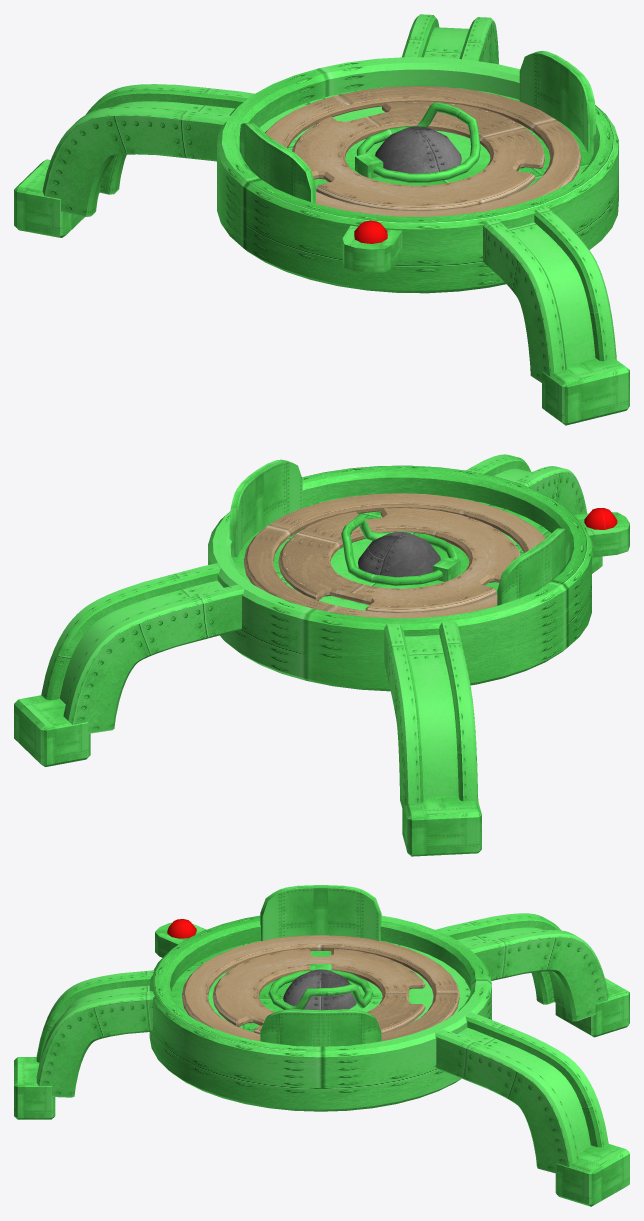
Rendered from static.glb.
3 views of the same model, one above another, from view 1: azimuth 30°, elevation 25°; view 2: azimuth 150°, elevation 25°; view 3: azimuth 270°, elevation 25° (orthographic). The views are drawn at different scales.
Visible parts, largest first — view 1: Tube, Boole_2, Sweep_2, Sweep_3, Sweep_6, Cube_5, Cube_3, Sweep_1_3, Cylinder_2, Sphere, Cube_2, Sweep_5 (+5 smaller); view 2: Tube, Sweep, Boole_2, Sweep_6, Sweep_2, Cube_5, Sweep_1_2, Cube_2, Cube, Cylinder_2, Sphere, Sweep_3 (+4 smaller); view 3: Tube, Sweep, Cube_5, Sweep_2, Boole_2, Sweep_3, Sweep_6, Cube, Cylinder_2, Sweep_1, Cube_3, Cube_2 (+6 smaller).
Part boxes in pixels (x1,y1,x2,y2): Tube: [217, 57, 618, 293]; Boole_2: [292, 101, 544, 210]; Sweep_2: [42, 84, 254, 216]; Sweep_3: [483, 206, 616, 382]; Sweep_6: [265, 86, 581, 216]; Cube_5: [239, 51, 595, 203]; Cube_3: [542, 358, 629, 425]; Sweep_1_3: [508, 222, 595, 364]; Cylinder_2: [259, 87, 593, 191]; Sphere: [375, 126, 461, 173]; Cube_2: [14, 159, 84, 237]; Sweep_5: [356, 102, 480, 182]; Tube: [208, 465, 591, 691]; Sweep: [41, 563, 244, 733]; Boole_2: [278, 508, 520, 612]; Sweep_6: [244, 493, 545, 618]; Sweep_2: [384, 621, 478, 807]; Cube_5: [229, 459, 570, 605]; Sweep_1_2: [405, 634, 458, 797]; Cube_2: [402, 796, 481, 856]; Cube: [14, 695, 90, 766]; Cylinder_2: [231, 493, 551, 610]; Sphere: [358, 532, 440, 577]; Sweep_3: [466, 454, 586, 514]; Tube: [149, 915, 491, 1111]; Sweep: [435, 1012, 608, 1173]; Cube_5: [260, 885, 381, 1046]; Sweep_2: [435, 913, 608, 1021]; Boole_2: [212, 948, 425, 1033]; Sweep_3: [36, 970, 154, 1097]; Sweep_6: [182, 935, 459, 1041]; Cube: [555, 1143, 629, 1206]; Cylinder_2: [171, 941, 470, 1032]; Sweep_1: [457, 1027, 590, 1152]; Cube_3: [14, 1057, 55, 1119]; Cube_2: [555, 978, 629, 1037].
Bounding box in the file's own units: 1.67 × 0.6084 × 2.15.
Materials: 4 (4 with a texture image).
